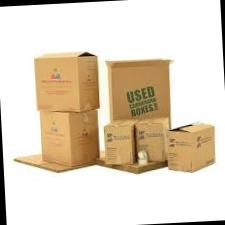cardboard: (18, 33, 106, 113), (97, 44, 177, 120), (163, 114, 223, 178)
